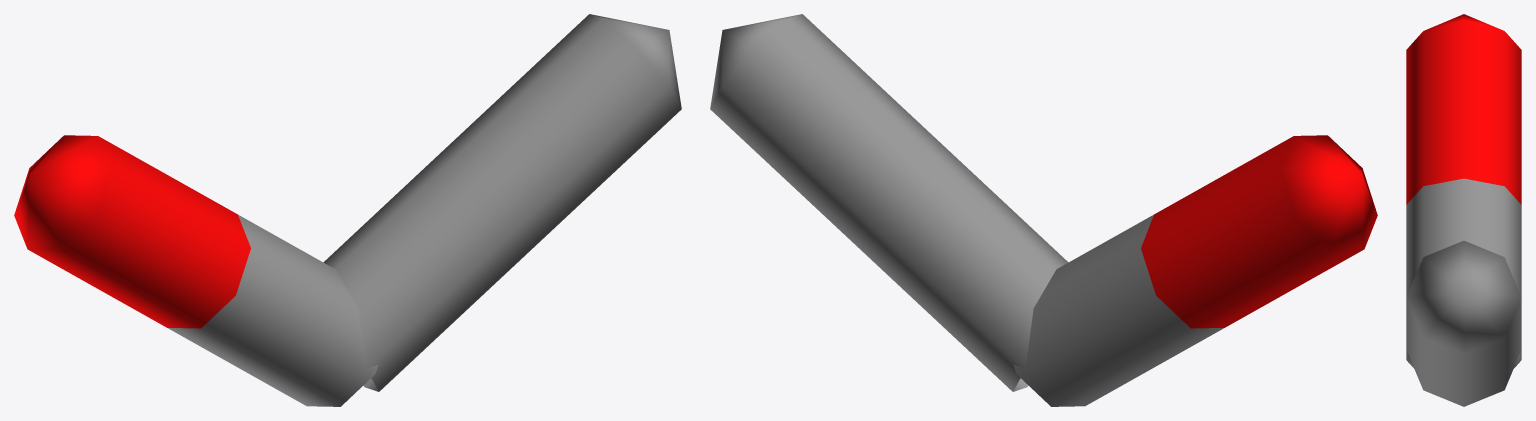
File: ethanol.glb
3 views of the same model, side by side, from view 1: azimuth 30°, elevation 25°; view 2: azimuth 150°, elevation 25°; view 3: azimuth 270°, elevation 25° (orthographic). The views are drawn at different scales.
Parts seen in each view (by area): view 1: node-geom0; view 2: node-geom0; view 3: node-geom0.
Boxes of the visible parts, x1,y1,x2,y2 form: node-geom0: [14, 14, 681, 406]; node-geom0: [710, 14, 1377, 406]; node-geom0: [1406, 14, 1521, 406].
Size of the model in its own units: 2.77 by 1.32 by 0.5.
